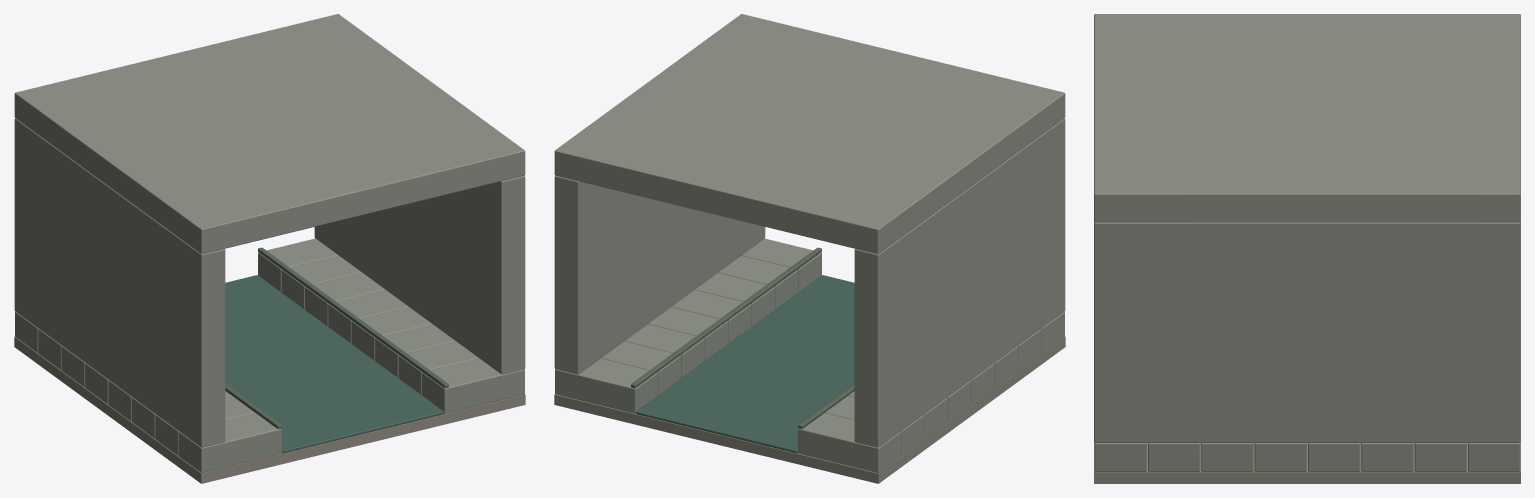
File: undercity-sewers-and-thieves-den-flat-soffit-tunnel-d418fc9f__25011.glb
The picture shows the model from 3 angles, left to right: view 1: azimuth 30°, elevation 25°; view 2: azimuth 150°, elevation 25°; view 3: azimuth 270°, elevation 25°; orthographic projection. The views are drawn at different scales.
Parts seen in each view (by area): view 1: flat-soffit-tunnel; view 2: flat-soffit-tunnel; view 3: flat-soffit-tunnel.
Part boxes in pixels (bbox=[...]): flat-soffit-tunnel: bbox=[14, 14, 525, 483]; flat-soffit-tunnel: bbox=[554, 14, 1065, 483]; flat-soffit-tunnel: bbox=[1094, 14, 1520, 483].
Bounding box in the file's own units: 4 × 3 × 4.
